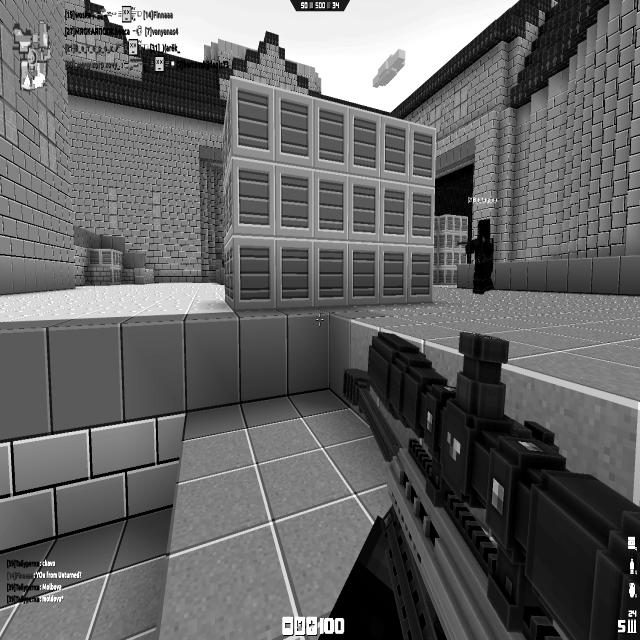Head: (478, 218, 490, 240)
Player: (457, 216, 494, 294)
